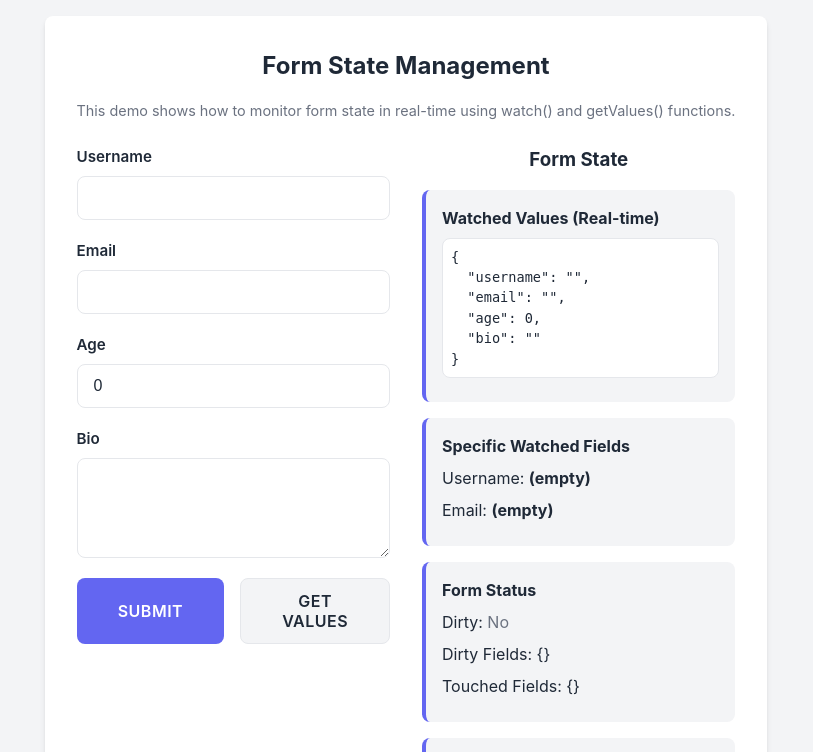
Scenario: WatchDemo › shows validation error for age constraints
Replace the text in the number field labelled "Age" with "10" at (233, 386), box [76,364,390,408]
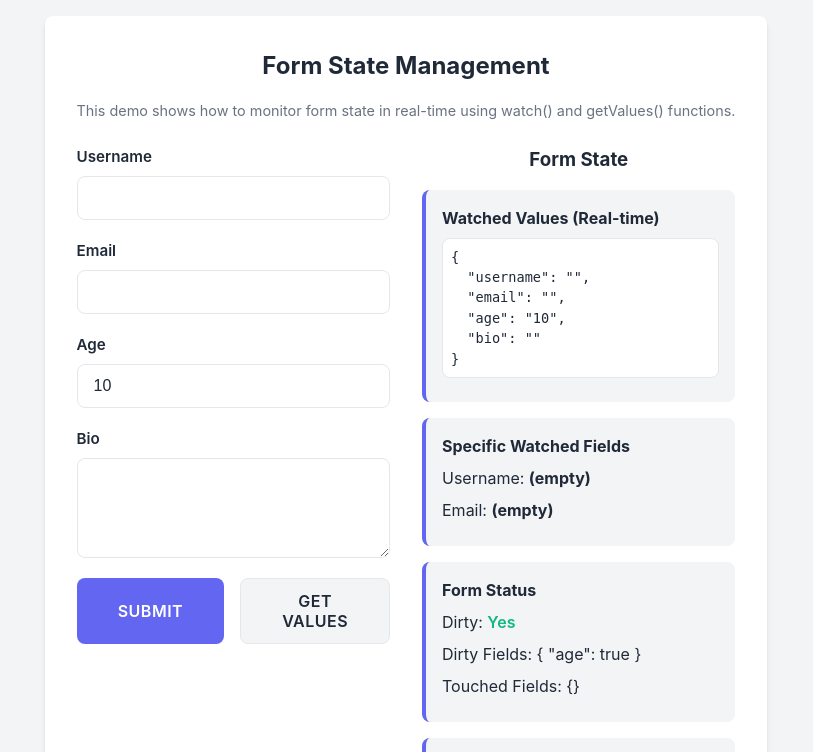
Leave the number field labelled "Age", box [76,364,390,408]
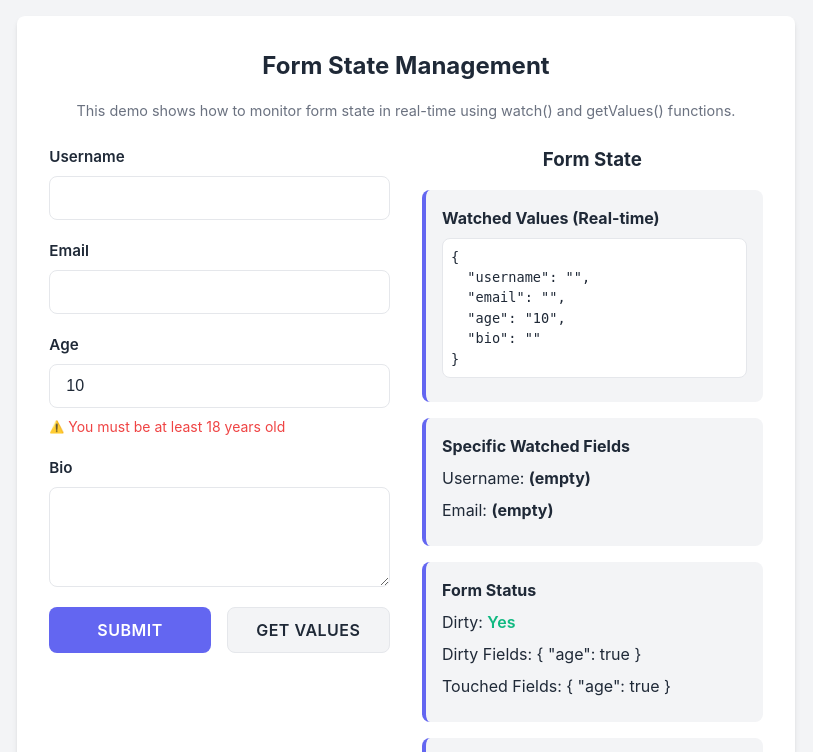
Expected: the text "You must be at least 18 years old" is shown, [68,418,285,435]
